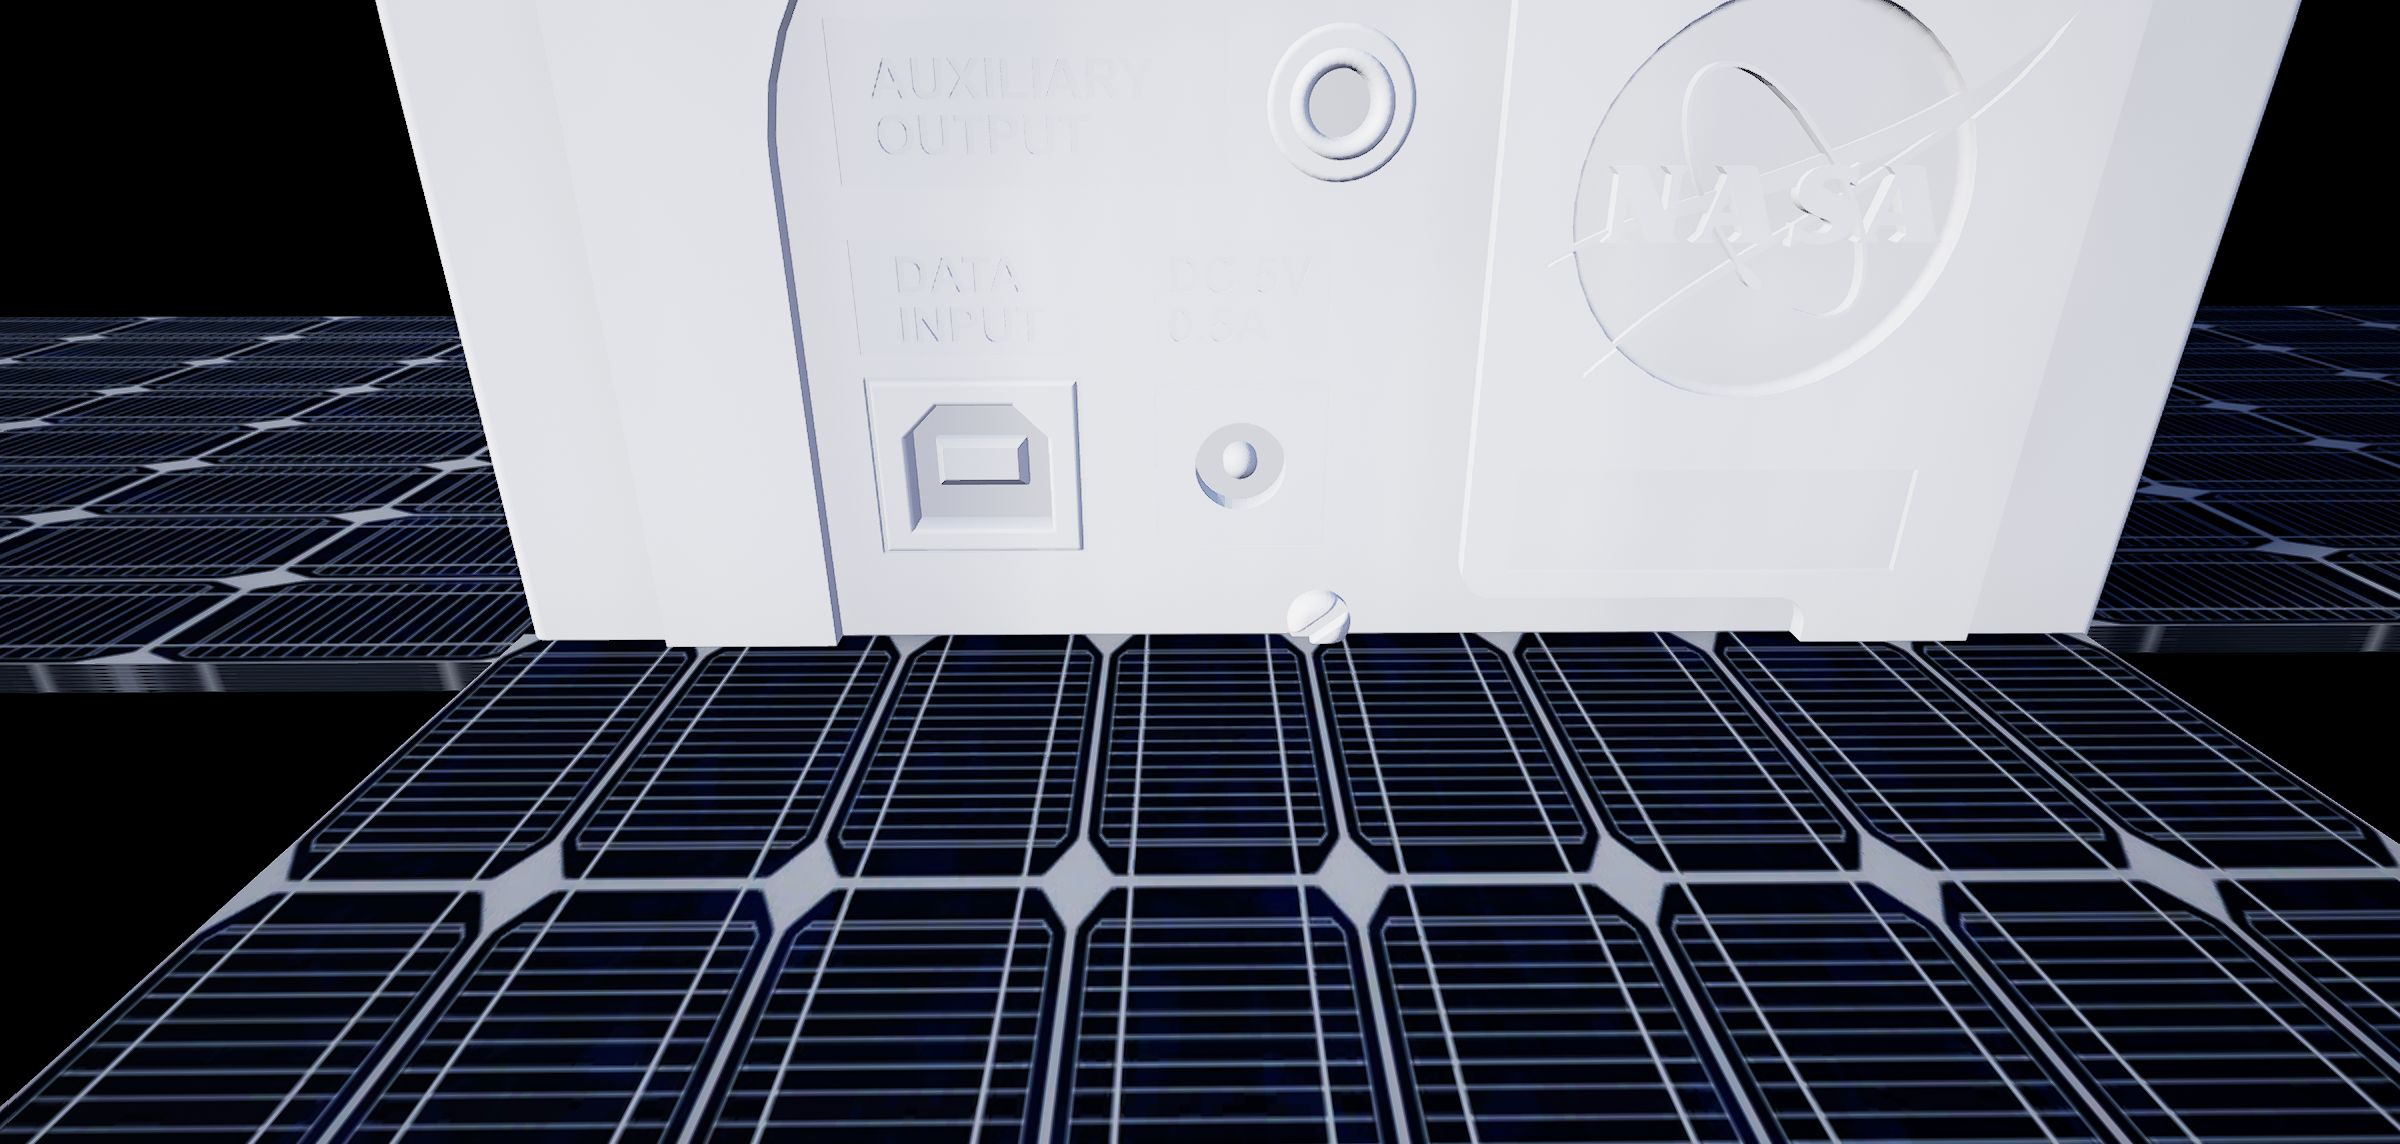aux: (1254, 18, 1433, 199)
dc: (1183, 413, 1293, 530)
usb: (902, 400, 1065, 539)
